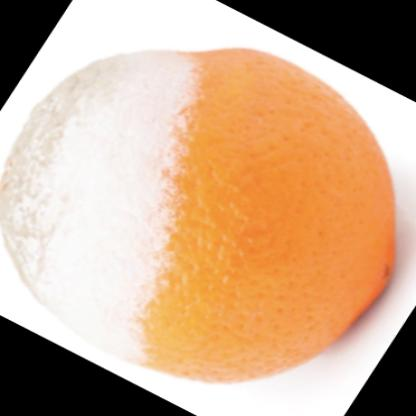rotten: (1, 51, 397, 380)
